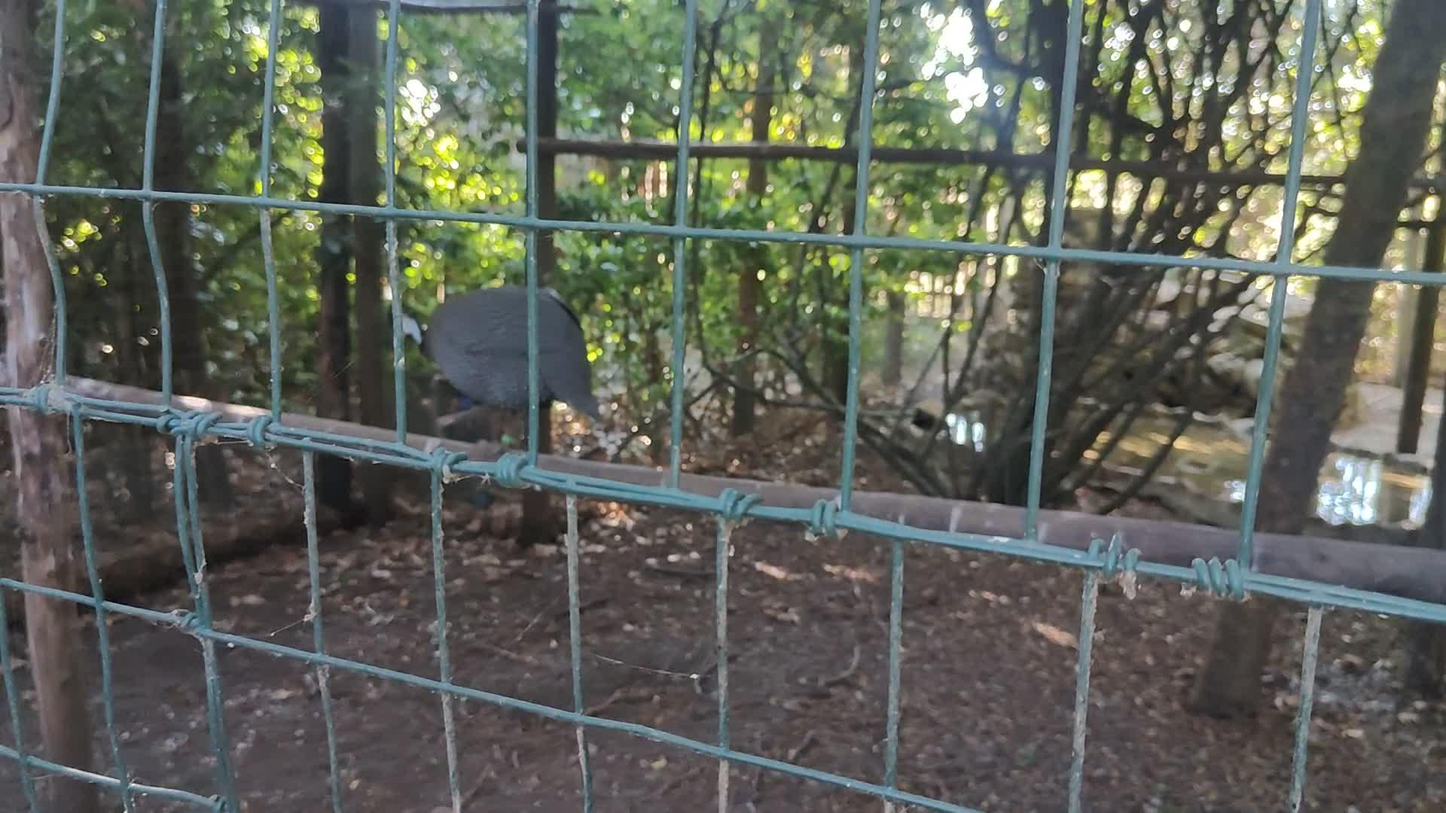apple: (387, 286, 603, 452)
